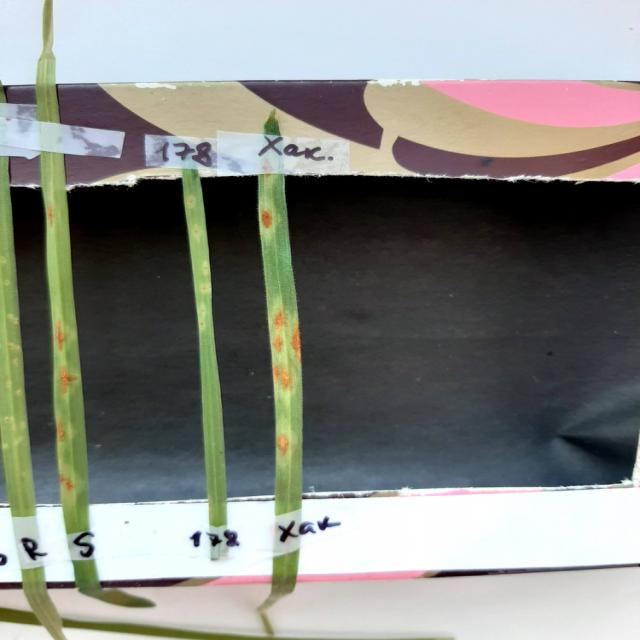wheat-stemrust: (39, 152, 97, 592), (257, 173, 303, 536)
